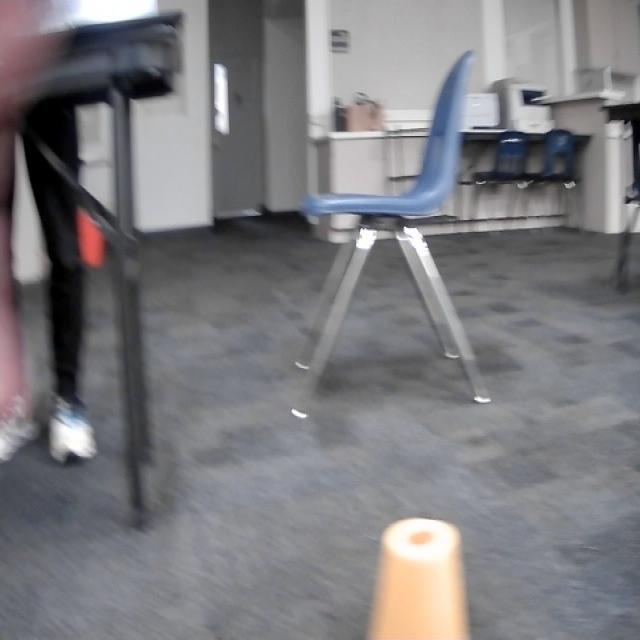cone: (367, 517, 472, 640)
